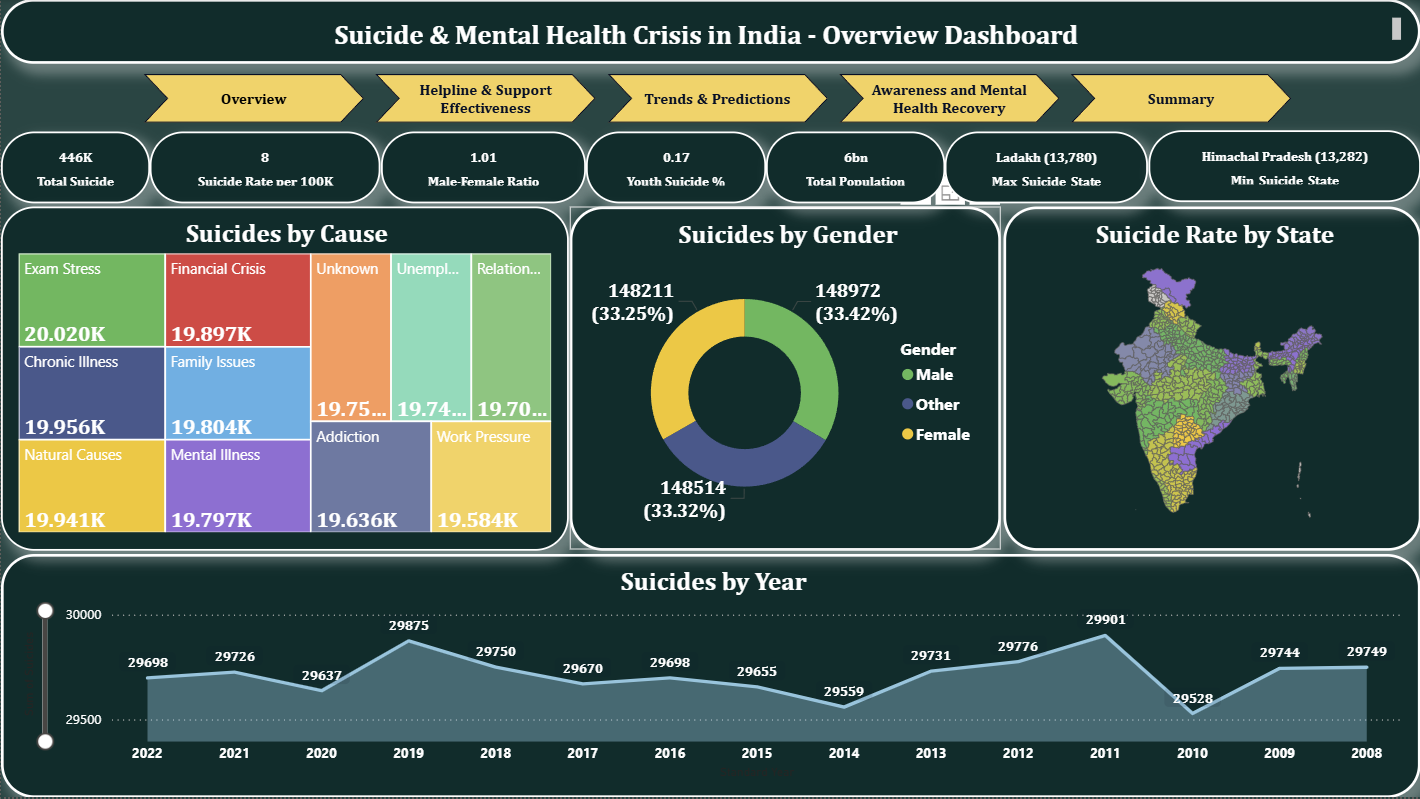

Layout of this report page (visuals, bound fields, positions):
{"tool":"powerbi","page":{"name":"Overview","canvas":[1280,720],"ordinal":0},"visuals":[{"type":"textbox","box":[0,0,1280.3,58],"z":0},{"type":"card","fields":{"Values":["State_Suicide_Stats_Cleaned.Total Suicide State"]},"box":[0,119.3,134.5,65],"z":1000},{"type":"card","fields":{"Values":["State_Suicide_Stats_Cleaned.Suicide Rate"]},"box":[134.5,119.3,207.9,65],"z":2000},{"type":"card","fields":{"Values":["State_Suicide_Stats_Cleaned.Male-Female Ratio"]},"box":[342.4,119.3,184.6,65],"z":3000},{"type":"card","fields":{"Values":["State_Suicide_Stats_Cleaned.Youth Suicide %"]},"box":[527,119.3,162.6,65],"z":4000},{"type":"stackedAreaChart","title":"Suicides by Year","fields":{"Category":["State_Suicide_Stats_Cleaned.Year"],"Y":["Sum(State_Suicide_Stats_Cleaned.Suicides)"]},"box":[0,500.1,1280.3,220.1],"z":5000},{"type":"treemap","title":"Suicides by Cause","fields":{"Group":["Cause_of_Suicide.Cause"],"Values":["Sum(Cause_of_Suicide.Number_of_Cases)"]},"box":[0,187.1,512.4,310],"z":6000},{"type":"donutChart","title":"Suicides by Gender","fields":{"Category":["State_Suicide_Stats_Cleaned.Gender"],"Y":["Sum(State_Suicide_Stats_Cleaned.Suicides)"]},"box":[512.4,187.1,388.9,310],"z":7000},{"type":"shapeMap","fields":{"Value":["State_Suicide_Stats_Cleaned.Suicide Rate"],"Category":["State_Suicide_Stats_Cleaned.State"]},"box":[903.7,187.1,376.6,310],"z":8000},{"type":"card","fields":{"Values":["State_Suicide_Stats_Cleaned.sum of population"]},"box":[689.7,119.3,161.4,65],"z":9000},{"type":"card","fields":{"Values":["State_Suicide_Stats_Cleaned.Max_Suicide_State"]},"box":[851.1,119.3,183.4,65],"z":11000},{"type":"card","fields":{"Values":["State_Suicide_Stats_Cleaned.Min_Suicide_State"]},"box":[1034.5,118.1,245.8,65],"z":12000},{"type":"pageNavigator","box":[128.4,67.3,1035.7,44],"z":13000}]}

Visuals, with their boxes in screenshot pixels (x1, y1, x2, y2), scaled from the page's 1280x720 canvas onto the 1420x799 screenshot:
textbox: crop(0, 0, 1419, 64)
card - State_Suicide_Stats_Cleaned.Total Suicide State: crop(0, 132, 149, 205)
card - State_Suicide_Stats_Cleaned.Suicide Rate: crop(149, 132, 380, 205)
card - State_Suicide_Stats_Cleaned.Male-Female Ratio: crop(380, 132, 585, 205)
card - State_Suicide_Stats_Cleaned.Youth Suicide %: crop(585, 132, 765, 205)
"Suicides by Year" stackedAreaChart: crop(0, 555, 1419, 798)
"Suicides by Cause" treemap: crop(0, 208, 568, 552)
"Suicides by Gender" donutChart: crop(568, 208, 1000, 552)
shapeMap - State_Suicide_Stats_Cleaned.Suicide Rate x State_Suicide_Stats_Cleaned.State: crop(1003, 208, 1419, 552)
card - State_Suicide_Stats_Cleaned.sum of population: crop(765, 132, 944, 205)
card - State_Suicide_Stats_Cleaned.Max_Suicide_State: crop(944, 132, 1148, 205)
card - State_Suicide_Stats_Cleaned.Min_Suicide_State: crop(1148, 131, 1419, 203)
pageNavigator: crop(142, 75, 1291, 124)
